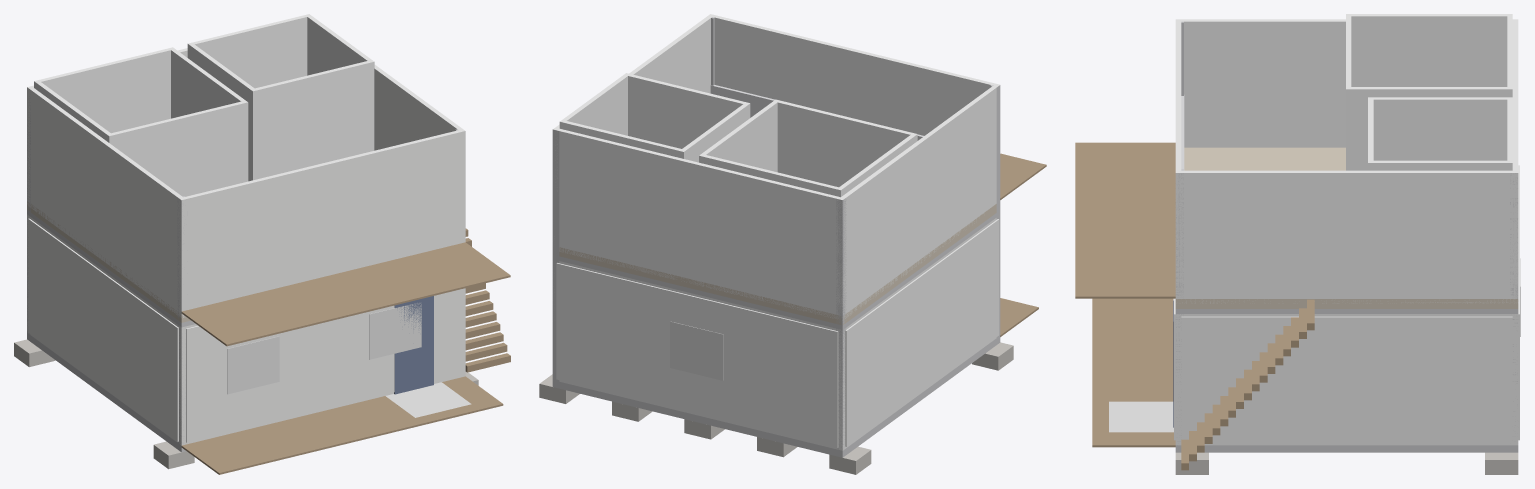
File: Duplex-20-Retirement-LOD1.glb
The picture shows the model from 3 angles, left to right: view 1: azimuth 30°, elevation 25°; view 2: azimuth 150°, elevation 25°; view 3: azimuth 270°, elevation 25°; orthographic projection. The views are drawn at different scales.
Parts seen in each view (by area): view 1: ExteriorShellUpper, ExteriorPanelsStandard, StudyUpper, BedroomUpper, BalconyUpper, BalconyGround, WindowsStandard, StaircaseExternal, EntryDoor, ExteriorShell, AccessibilityRetirement, FoundationBlocks (+4 smaller); view 2: ExteriorShellUpper, ExteriorPanelsStandard, BedroomUpper, StudyUpper, VerticalStructure, FloorUpper, FoundationBlocks, BaseFrame, ExteriorShell, WindowsStandard, TopFrame, BalconyUpper (+2 smaller); view 3: ExteriorShellUpper, ExteriorPanelsStandard, BalconyUpper, BedroomUpper, StudyUpper, BalconyGround, FloorUpper, StaircaseExternal, ExteriorShell, BaseFrame, AccessibilityRetirement, TopFrame (+2 smaller).
Part boxes in pixels (x1=…): ExteriorShellUpper: x1=27, y1=48, x2=465, y2=317; ExteriorPanelsStandard: x1=28, y1=218, x2=461, y2=442; StudyUpper: x1=187, y1=14, x2=374, y2=181; BedroomUpper: x1=34, y1=47, x2=248, y2=196; BalconyUpper: x1=181, y1=242, x2=510, y2=346; BalconyGround: x1=181, y1=376, x2=503, y2=474; WindowsStandard: x1=227, y1=303, x2=421, y2=394; StaircaseExternal: x1=465, y1=228, x2=510, y2=372; EntryDoor: x1=394, y1=296, x2=433, y2=394; ExteriorShell: x1=27, y1=214, x2=465, y2=445; AccessibilityRetirement: x1=386, y1=382, x2=471, y2=417; FoundationBlocks: x1=14, y1=339, x2=478, y2=469; ExteriorShellUpper: x1=553, y1=14, x2=999, y2=320; ExteriorPanelsStandard: x1=556, y1=219, x2=999, y2=447; BedroomUpper: x1=699, y1=99, x2=917, y2=197; StudyUpper: x1=559, y1=73, x2=750, y2=162; VerticalStructure: x1=552, y1=17, x2=1000, y2=449; FloorUpper: x1=553, y1=204, x2=996, y2=325; FoundationBlocks: x1=539, y1=342, x2=1013, y2=474; BaseFrame: x1=552, y1=336, x2=1000, y2=457; ExteriorShell: x1=553, y1=218, x2=996, y2=450; WindowsStandard: x1=670, y1=321, x2=723, y2=380; TopFrame: x1=559, y1=213, x2=996, y2=329; BalconyUpper: x1=1000, y1=153, x2=1046, y2=199; ExteriorShellUpper: x1=1175, y1=19, x2=1518, y2=303; ExteriorPanelsStandard: x1=1174, y1=165, x2=1519, y2=443; BalconyUpper: x1=1075, y1=142, x2=1175, y2=298; BedroomUpper: x1=1346, y1=14, x2=1512, y2=170; StudyUpper: x1=1368, y1=97, x2=1512, y2=170; BalconyGround: x1=1092, y1=298, x2=1175, y2=447; FloorUpper: x1=1175, y1=147, x2=1518, y2=308; StaircaseExternal: x1=1181, y1=299, x2=1314, y2=470; ExteriorShell: x1=1175, y1=314, x2=1518, y2=445; BaseFrame: x1=1175, y1=445, x2=1518, y2=452; AccessibilityRetirement: x1=1109, y1=401, x2=1173, y2=432; TopFrame: x1=1175, y1=309, x2=1518, y2=313.
Size of the model in its own units: 7.94 by 6 by 8.
